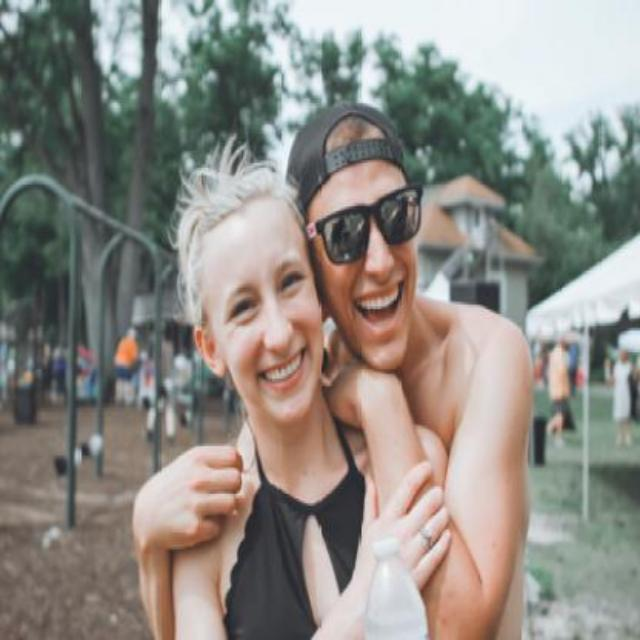glasses: (306, 184, 424, 264)
